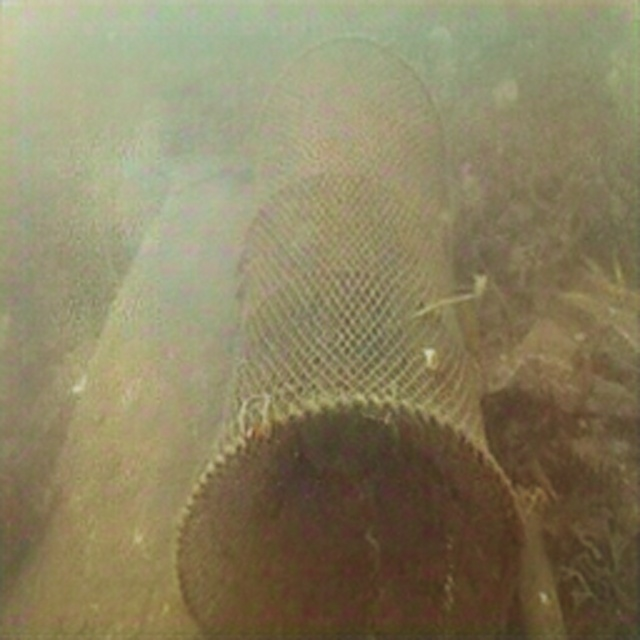mine: (172, 31, 529, 639)
